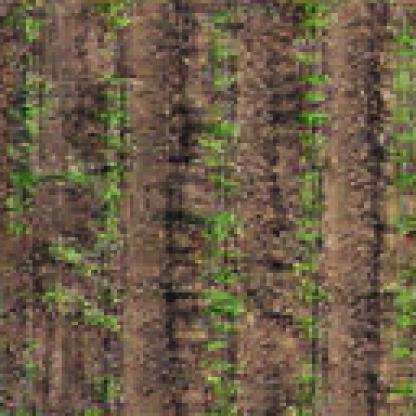sorghum_plant: (282, 0, 339, 416), (204, 8, 243, 416), (84, 0, 141, 253), (0, 1, 54, 257), (387, 4, 416, 416)
